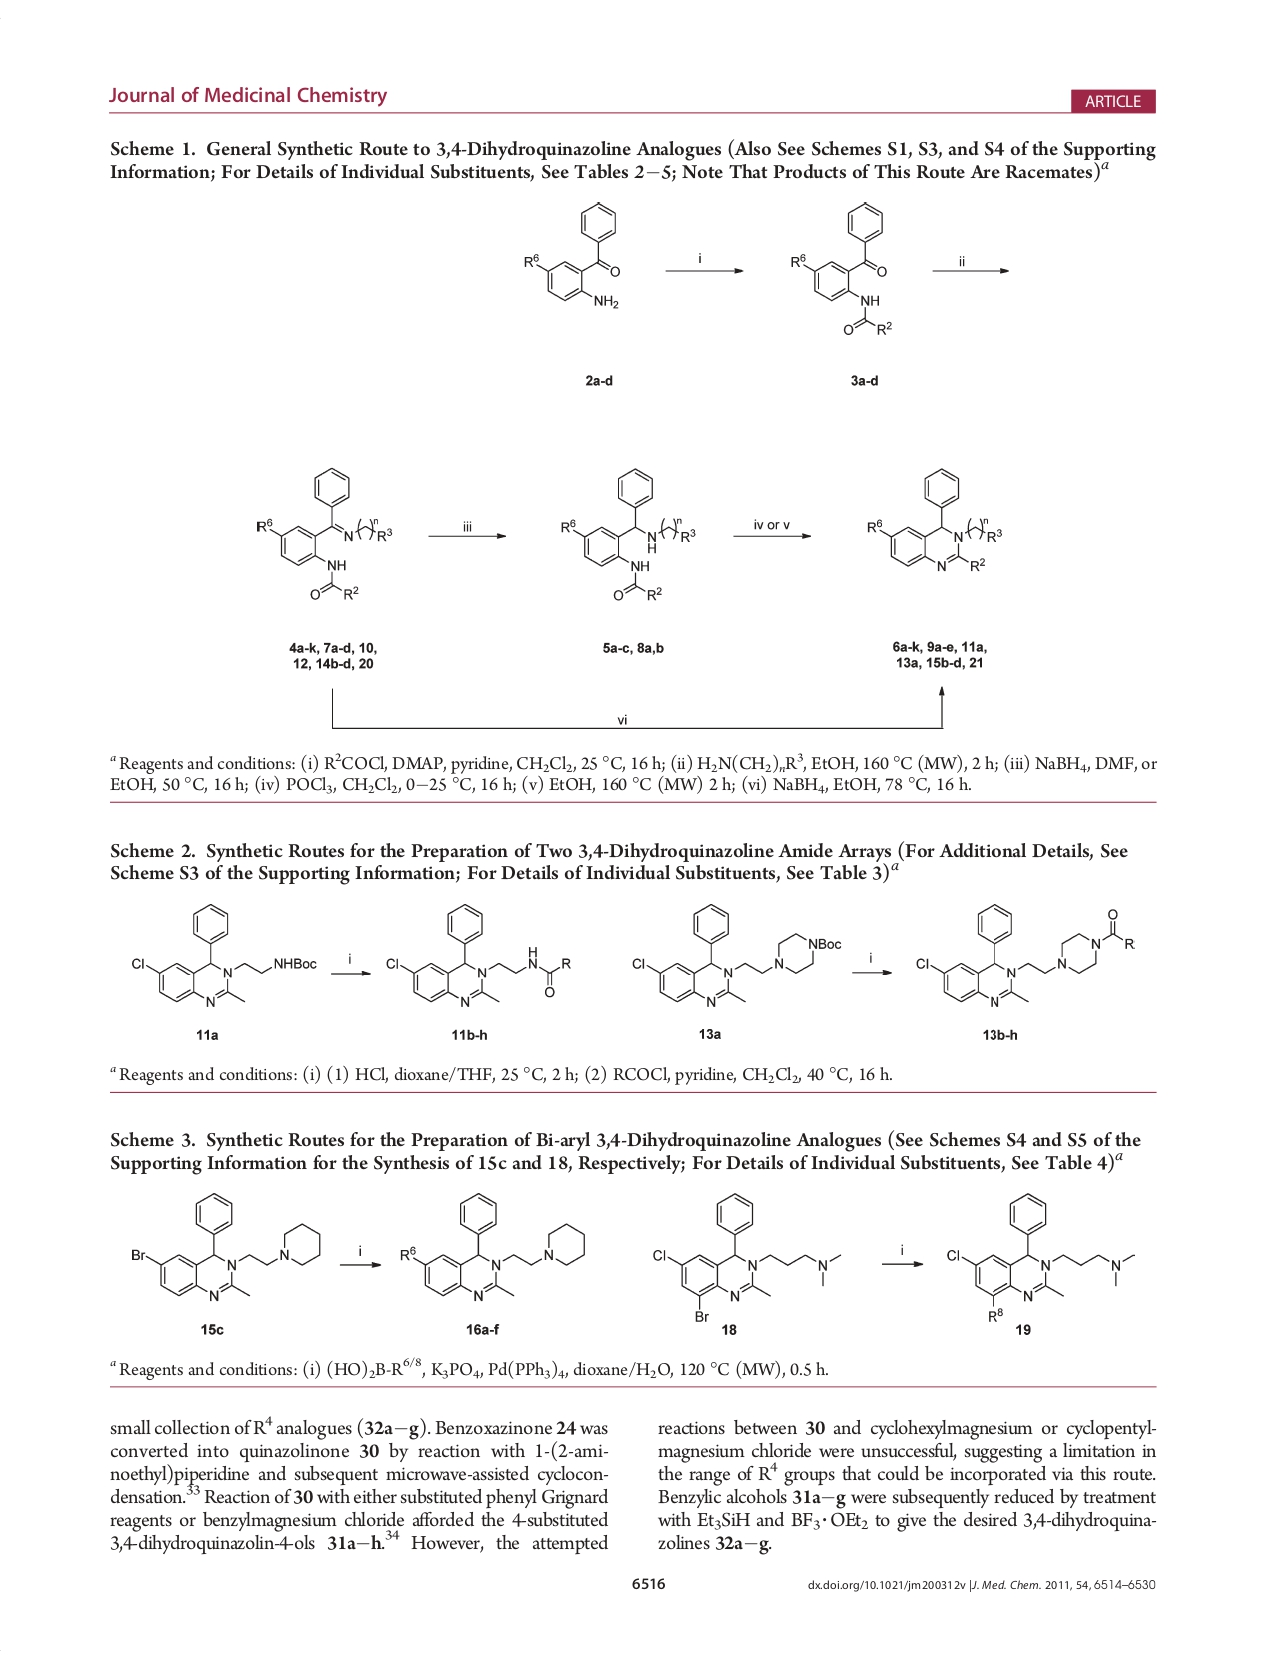exist_molecular: (652, 1189, 844, 1325), (944, 1189, 1138, 1323), (914, 902, 1138, 1009), (629, 902, 844, 1009), (129, 1189, 324, 1305), (398, 1188, 590, 1305), (383, 899, 573, 1011), (253, 463, 398, 605), (130, 902, 318, 1009), (556, 465, 697, 602), (864, 465, 1005, 576), (789, 198, 896, 338), (520, 195, 629, 309)
